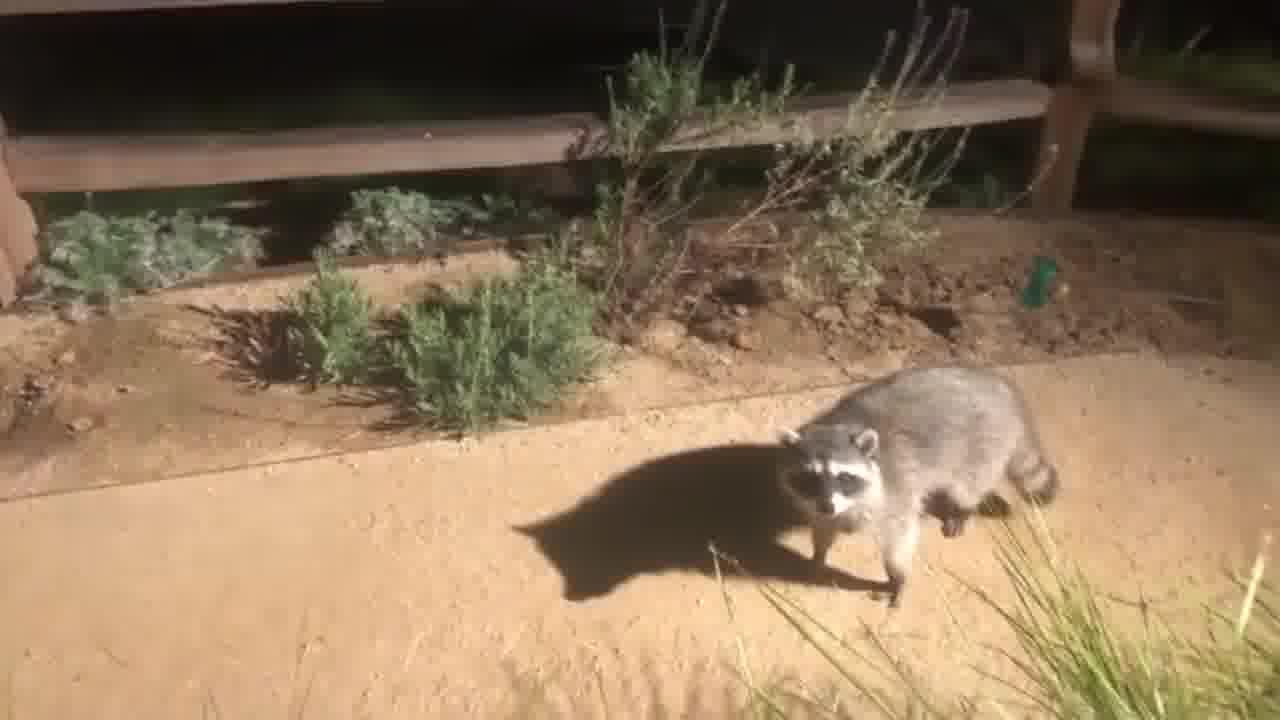raccoon: (762, 355, 1067, 620)
